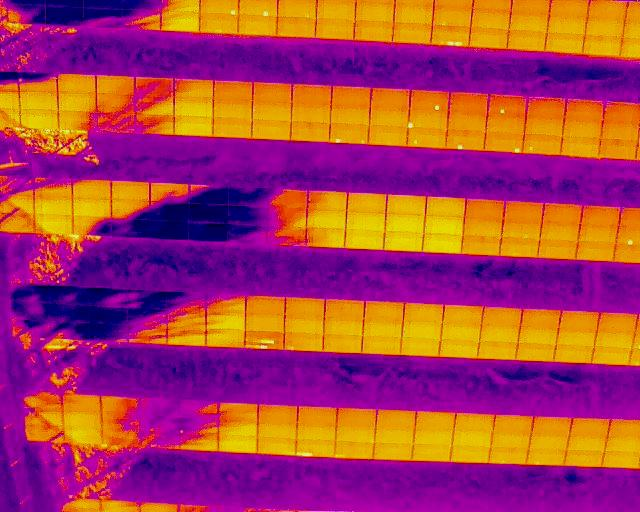Cell: (486, 95, 526, 117), (410, 89, 449, 110), (432, 6, 471, 26), (408, 111, 449, 129), (484, 134, 524, 152), (407, 129, 446, 147), (446, 131, 485, 149), (199, 15, 237, 32), (239, 0, 278, 16), (523, 138, 561, 153), (200, 0, 239, 14)
Cell-Multi: (433, 26, 472, 45), (329, 124, 368, 143), (244, 333, 284, 349)
No-Anomaly: (449, 90, 488, 118), (284, 297, 325, 320), (371, 88, 410, 111), (564, 99, 603, 121), (253, 83, 292, 105), (331, 86, 370, 108), (292, 85, 332, 106), (112, 180, 150, 202), (375, 411, 416, 431), (393, 23, 432, 44), (213, 83, 252, 104), (526, 97, 563, 119), (561, 137, 598, 159), (545, 34, 585, 54), (539, 222, 579, 242), (462, 234, 500, 255), (599, 312, 637, 333), (307, 208, 345, 229), (355, 2, 394, 22), (325, 299, 364, 319), (354, 21, 393, 41), (174, 116, 213, 136), (386, 194, 425, 214), (347, 192, 386, 212), (161, 12, 200, 32), (504, 201, 543, 221), (469, 29, 508, 49), (277, 18, 318, 37), (587, 17, 625, 37), (365, 300, 403, 320), (403, 303, 443, 322), (73, 179, 111, 199), (543, 203, 583, 222), (577, 223, 617, 242), (218, 402, 258, 421), (415, 411, 455, 430), (583, 36, 623, 55), (603, 102, 639, 123), (424, 233, 463, 252), (501, 238, 540, 257), (560, 312, 599, 331), (316, 19, 355, 38), (471, 9, 510, 28), (277, 0, 316, 19), (362, 337, 400, 356), (394, 5, 432, 24), (508, 32, 546, 51), (298, 404, 336, 423), (384, 233, 424, 251), (174, 99, 214, 117), (402, 322, 442, 340), (33, 199, 73, 217), (72, 199, 112, 217), (308, 190, 348, 208), (424, 216, 464, 234), (346, 213, 386, 231), (297, 423, 337, 441), (336, 408, 376, 426), (454, 413, 494, 431), (563, 119, 600, 138), (599, 140, 636, 159), (307, 229, 346, 247), (547, 16, 586, 34), (238, 16, 277, 34), (482, 309, 521, 327), (401, 339, 440, 357), (577, 242, 616, 260), (251, 123, 290, 141), (570, 418, 609, 436), (495, 415, 534, 433), (57, 76, 96, 94), (96, 76, 135, 94), (316, 0, 355, 18), (443, 307, 484, 324), (20, 110, 58, 128), (246, 297, 284, 315), (525, 119, 563, 137), (426, 197, 464, 215), (581, 205, 619, 223), (509, 13, 547, 31), (502, 221, 540, 239), (291, 106, 331, 123), (322, 335, 362, 352), (291, 124, 331, 141), (464, 200, 504, 217), (258, 404, 298, 421), (374, 443, 414, 460), (451, 446, 491, 463), (58, 94, 95, 112), (175, 80, 212, 98), (345, 231, 384, 248), (252, 106, 291, 123), (521, 312, 560, 329), (595, 333, 634, 350), (485, 117, 524, 134), (368, 128, 407, 145), (63, 395, 102, 412), (257, 438, 296, 455), (587, 0, 626, 17), (452, 430, 493, 446), (19, 92, 57, 109), (369, 110, 407, 127), (284, 334, 322, 351), (463, 218, 501, 235), (386, 215, 424, 232), (538, 242, 578, 258), (362, 321, 402, 337), (323, 320, 363, 336), (245, 316, 285, 332), (533, 416, 573, 432), (528, 433, 570, 448), (215, 104, 252, 121), (554, 346, 593, 362), (206, 314, 245, 330), (478, 342, 517, 358), (567, 435, 606, 451), (447, 117, 486, 133), (63, 412, 102, 428), (489, 447, 528, 463), (440, 340, 478, 356), (213, 122, 251, 138), (601, 123, 639, 139), (218, 436, 256, 452), (527, 448, 565, 464), (330, 109, 370, 124), (517, 328, 557, 343), (412, 445, 452, 460), (205, 331, 242, 347), (284, 319, 323, 334), (491, 432, 530, 447), (101, 396, 140, 411), (258, 422, 297, 437), (479, 327, 520, 341), (374, 430, 415, 444), (593, 349, 631, 364), (550, 0, 588, 15), (516, 345, 556, 359), (413, 431, 453, 445), (565, 450, 605, 464), (166, 332, 205, 346), (218, 422, 257, 436), (63, 429, 102, 443), (336, 428, 374, 442), (441, 326, 481, 339), (556, 332, 595, 345), (512, 0, 550, 12)
Shadowing: (33, 176, 72, 199), (83, 7, 125, 28), (189, 184, 229, 205), (45, 4, 83, 26), (128, 307, 167, 328), (150, 202, 189, 223), (228, 205, 268, 225), (166, 291, 204, 312), (149, 183, 189, 202), (135, 78, 175, 97), (73, 217, 112, 236), (111, 200, 150, 219), (23, 393, 62, 412), (86, 308, 127, 326), (46, 321, 87, 339), (47, 285, 85, 304), (135, 115, 173, 134), (229, 187, 269, 205), (111, 219, 151, 237), (97, 114, 134, 133), (7, 4, 44, 23), (124, 10, 161, 29), (96, 95, 135, 113), (135, 97, 174, 115), (34, 215, 73, 233), (150, 221, 189, 239), (86, 290, 127, 307), (22, 412, 63, 429), (140, 414, 181, 431), (139, 432, 180, 449), (269, 227, 307, 245), (168, 313, 206, 331), (128, 290, 166, 308), (269, 189, 307, 207), (189, 205, 227, 223), (190, 224, 228, 242), (19, 73, 57, 91), (205, 296, 245, 313), (46, 304, 86, 321), (228, 227, 268, 244), (270, 208, 307, 226), (102, 429, 141, 446), (11, 282, 47, 300), (58, 112, 96, 129), (87, 326, 127, 342), (140, 398, 180, 414), (181, 419, 218, 436), (181, 401, 218, 418), (12, 320, 45, 339), (128, 329, 167, 345), (102, 412, 140, 428), (12, 301, 47, 318), (22, 429, 64, 443), (181, 437, 218, 452)
Unclassified: (335, 444, 374, 459), (295, 442, 334, 456)
